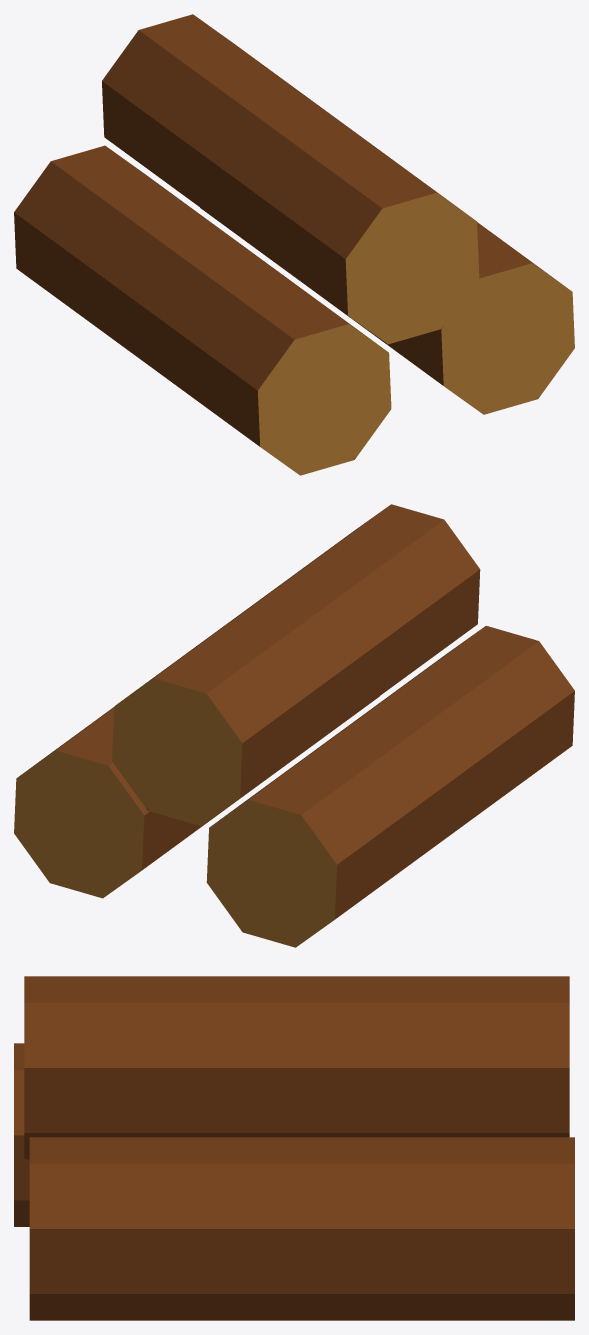
The model's file is Logs.fbx.
3 renders of one model, top to bottom at view 1: azimuth 30°, elevation 25°; view 2: azimuth 150°, elevation 25°; view 3: azimuth 270°, elevation 25°, orthographic. The views are drawn at different scales.
Visible parts, largest first — view 1: Logs; view 2: Logs; view 3: Logs.
Boxes of the visible parts, bbox=[...] form: Logs: bbox=[14, 14, 574, 475]; Logs: bbox=[14, 504, 574, 947]; Logs: bbox=[14, 976, 574, 1320].
Bounding box in the file's own units: 108 × 78.33 × 145.
